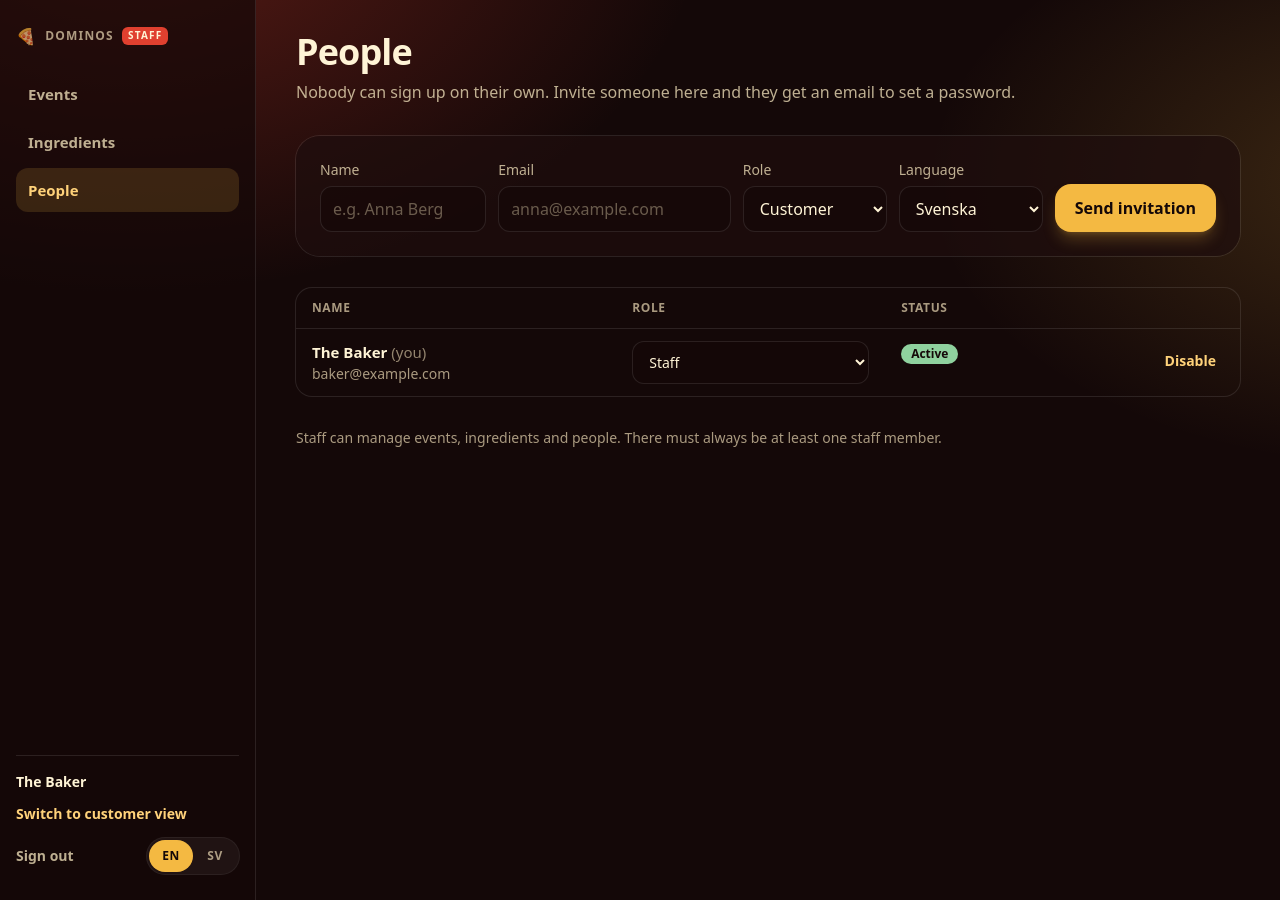
the people page › invites someone and confirms it
In the field labelled "Name": (403, 209) x1=320 y1=186 x2=486 y2=232, type "Maja Lind"
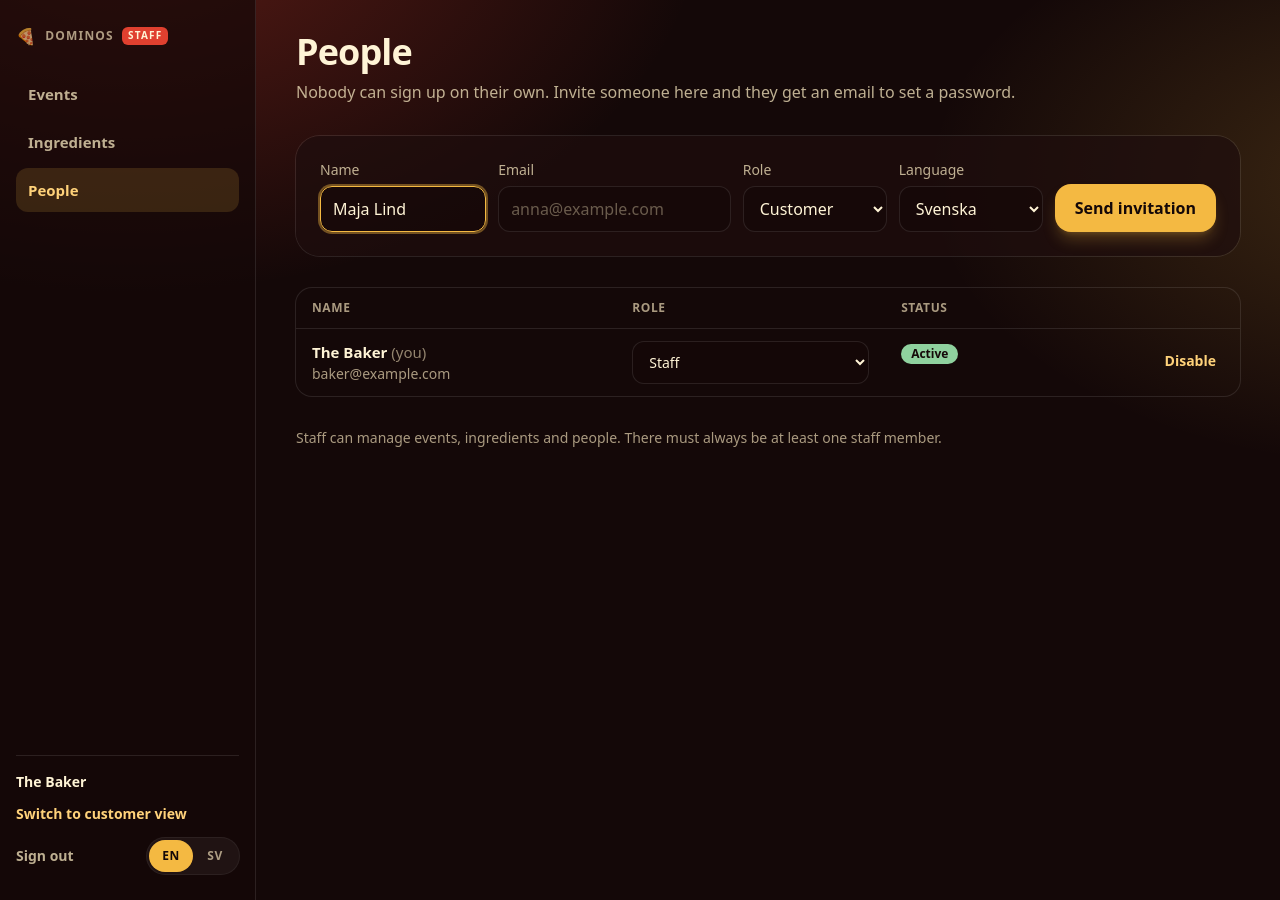
In the field labelled "Email": (614, 209) x1=498 y1=186 x2=731 y2=232, type "maja@example.com"
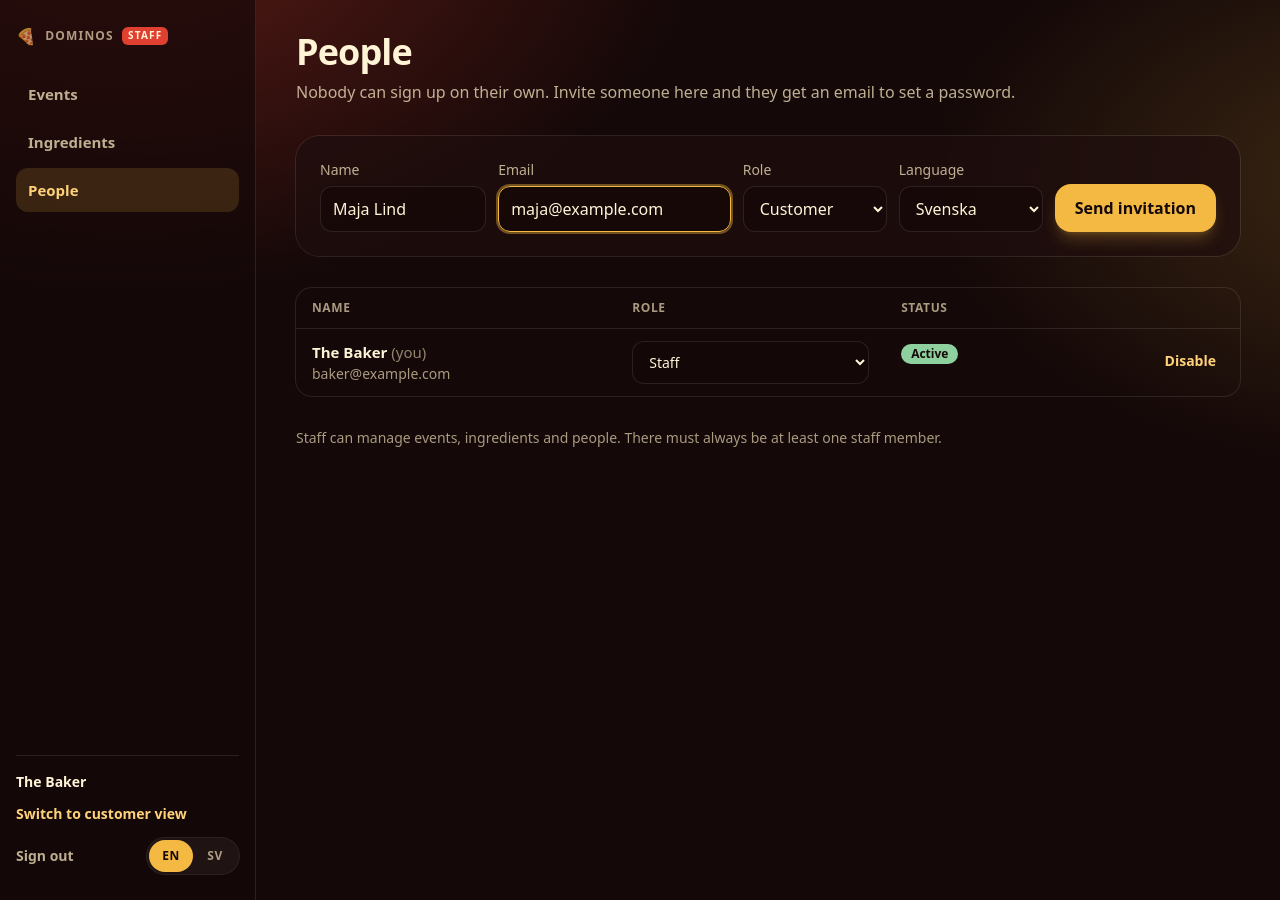
Click the button "Send invitation": (1135, 208) x1=1055 y1=184 x2=1216 y2=232
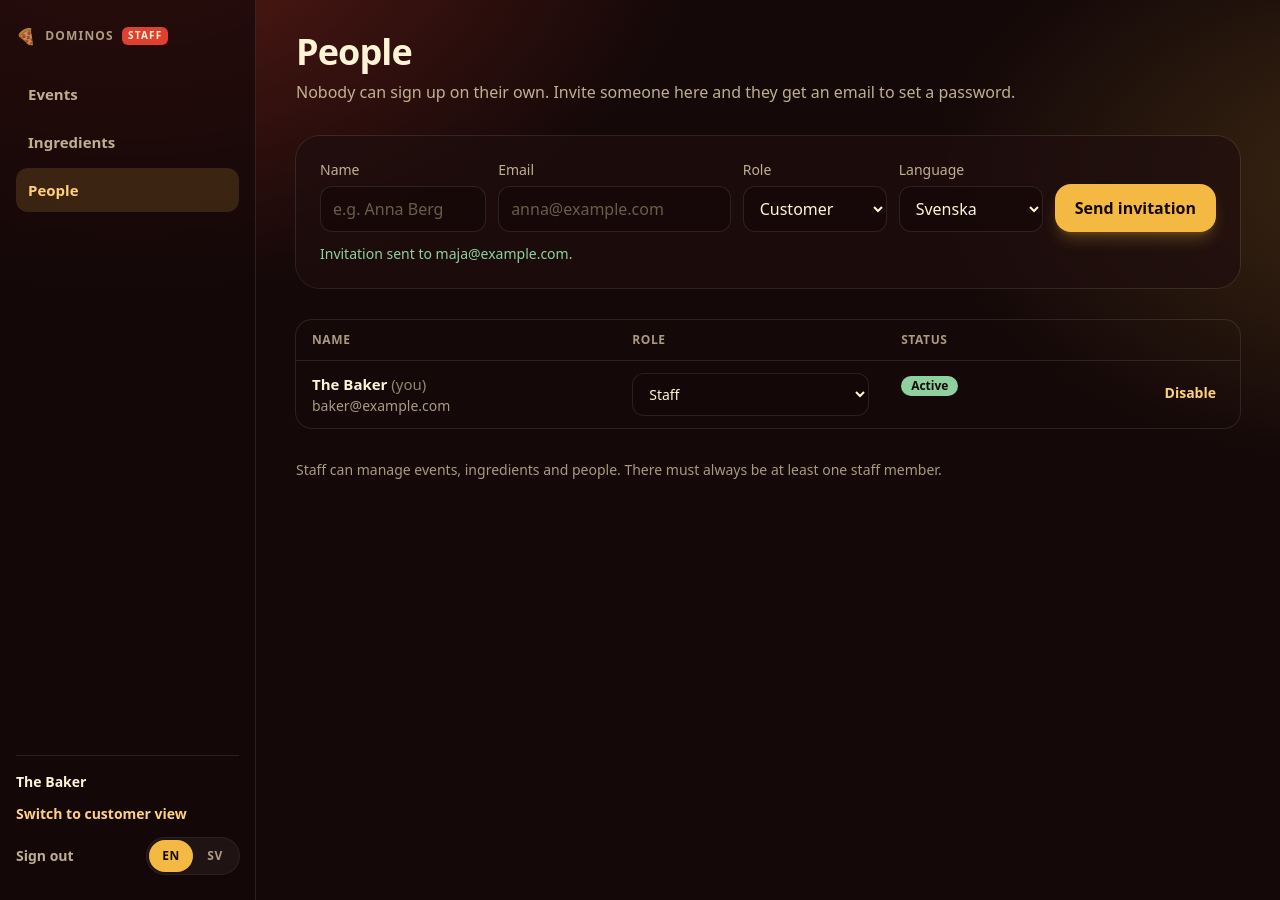
Result: the message reads "Invitation sent to maja@example.com." at x1=320 y1=244 x2=572 y2=263
